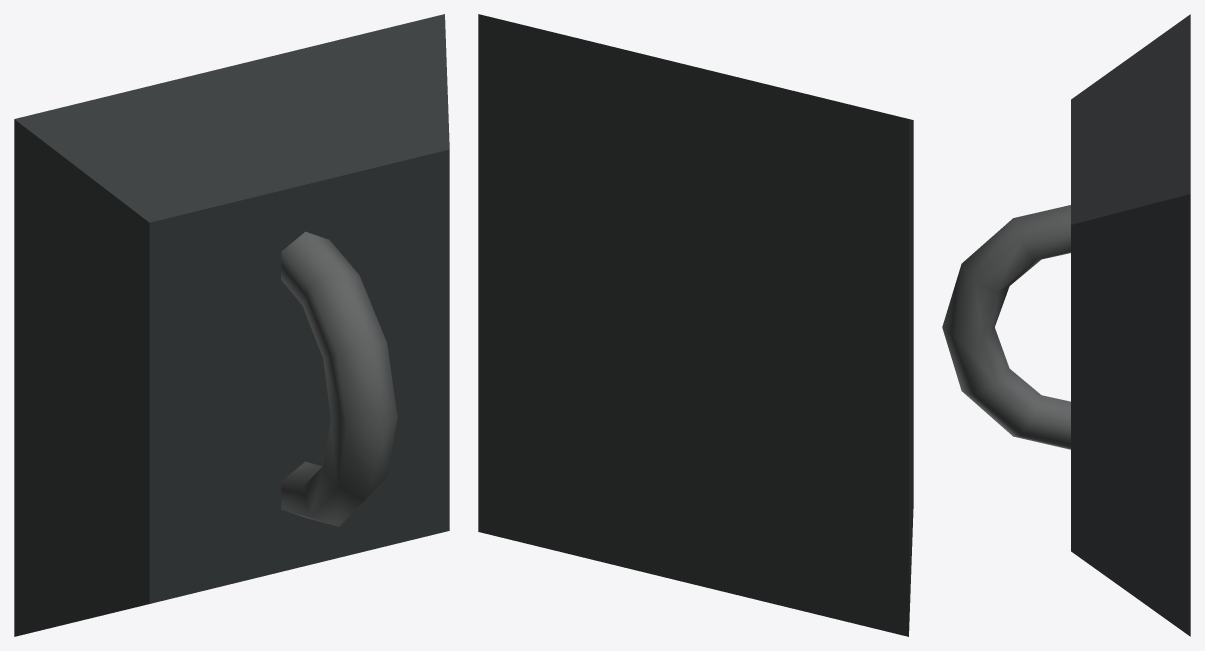
The model's file is Charm_Hook_01.fbx.
3 views of the same model, side by side, from view 1: azimuth 30°, elevation 25°; view 2: azimuth 150°, elevation 25°; view 3: azimuth 270°, elevation 25° (orthographic). The views are drawn at different scales.
Visible parts, largest first — view 1: Charm_Hook_01; view 2: Charm_Hook_01; view 3: Charm_Hook_01.
Part boxes in pixels (<box>): Charm_Hook_01: <box>14,14,449,636</box>; Charm_Hook_01: <box>478,14,913,636</box>; Charm_Hook_01: <box>942,14,1190,636</box>.
Bounding box in the file's own units: 1.9 × 2.19 × 1.11.
